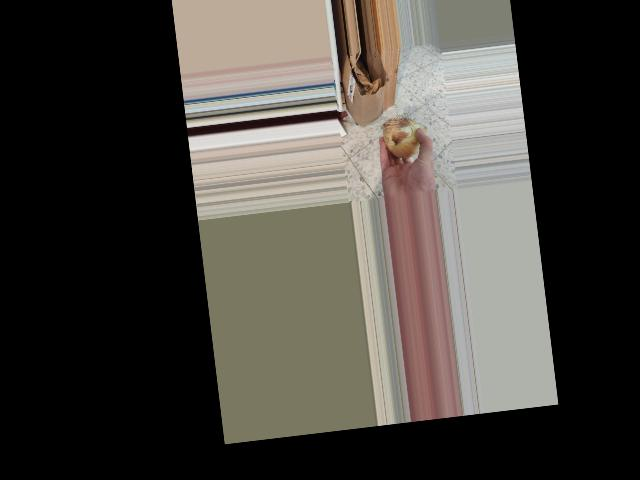onion: (380, 112, 431, 165)
